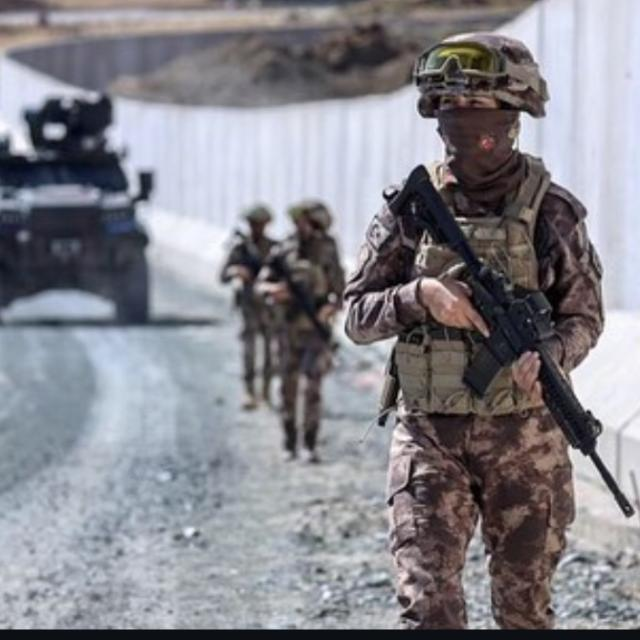poh_personel: (342, 31, 607, 631)
